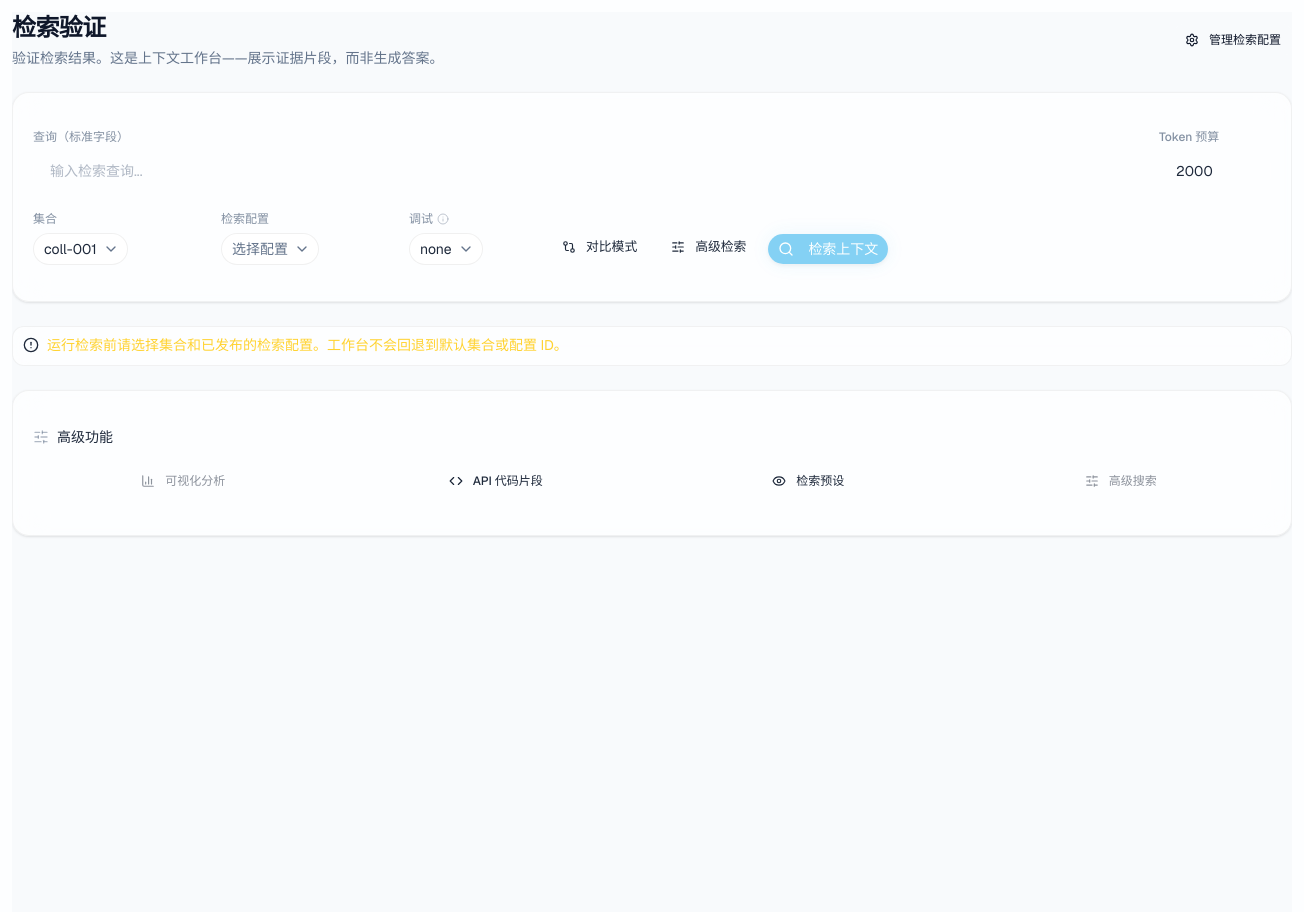
Scenario: RetrievalPage › Results Header › renders results count and expand/collapse buttons
Expected: the button "检索上下文" is shown, [767,233,889,265]
Click the dropdown labelled "选择配置 ▼".
click(270, 249)  # box [221,233,319,265]
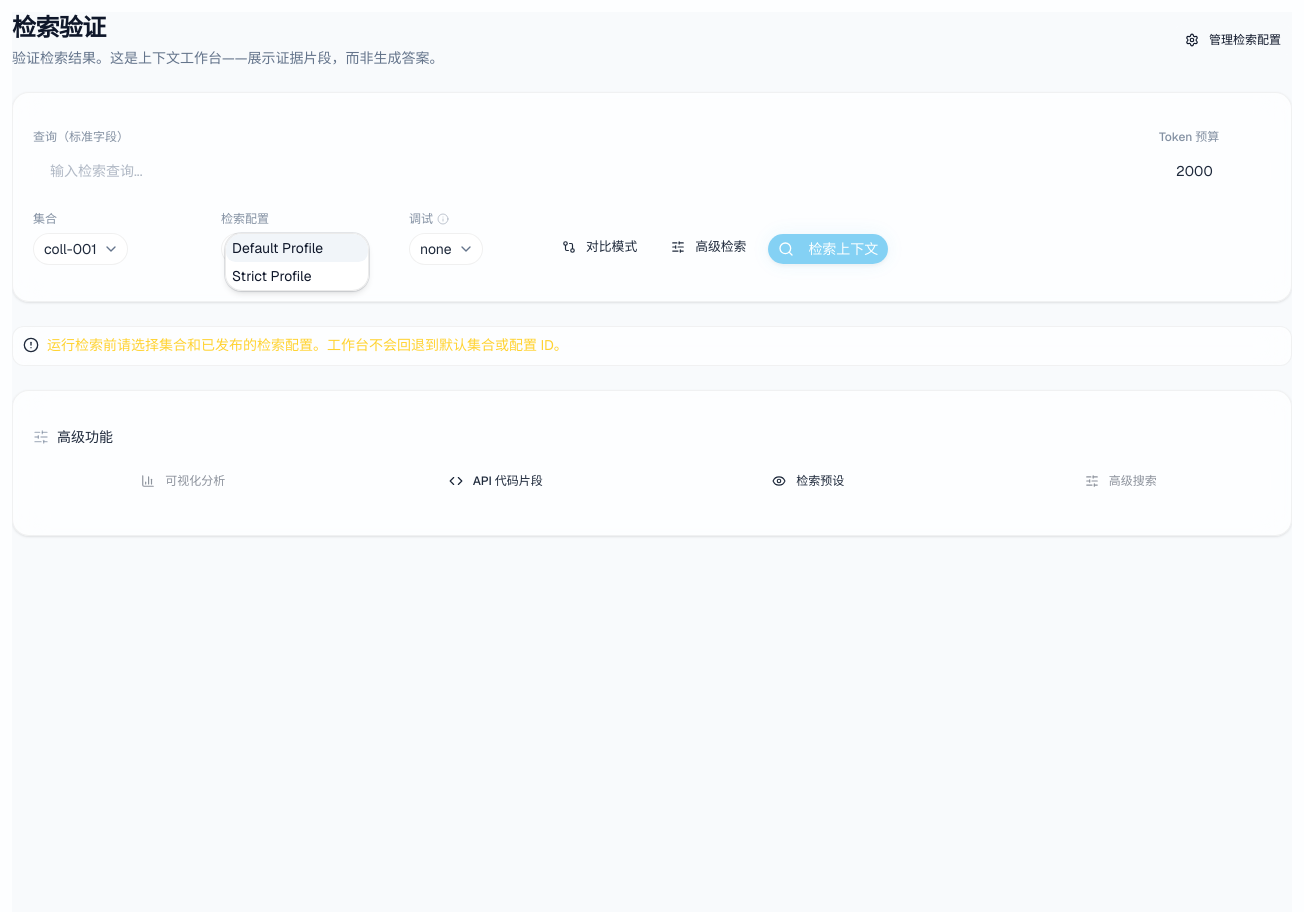
Now the option "Default Profile" is shown
Click the option "Default Profile".
click(297, 248)  # box [226,234,368,262]
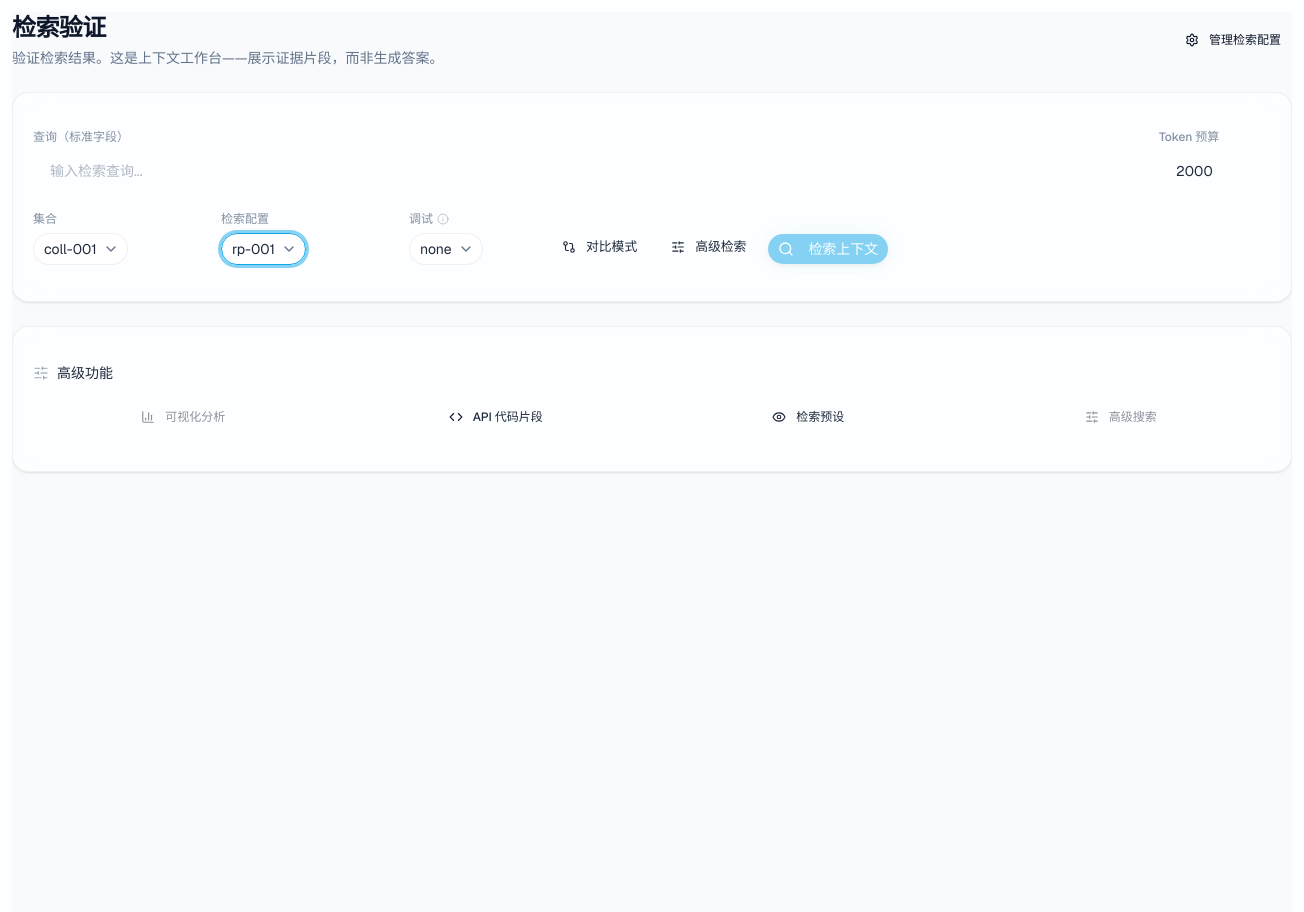
Type "test query" into the field with placeholder "输入检索查询...".
click(590, 171); type("test query")  # box [33,151,1147,191]
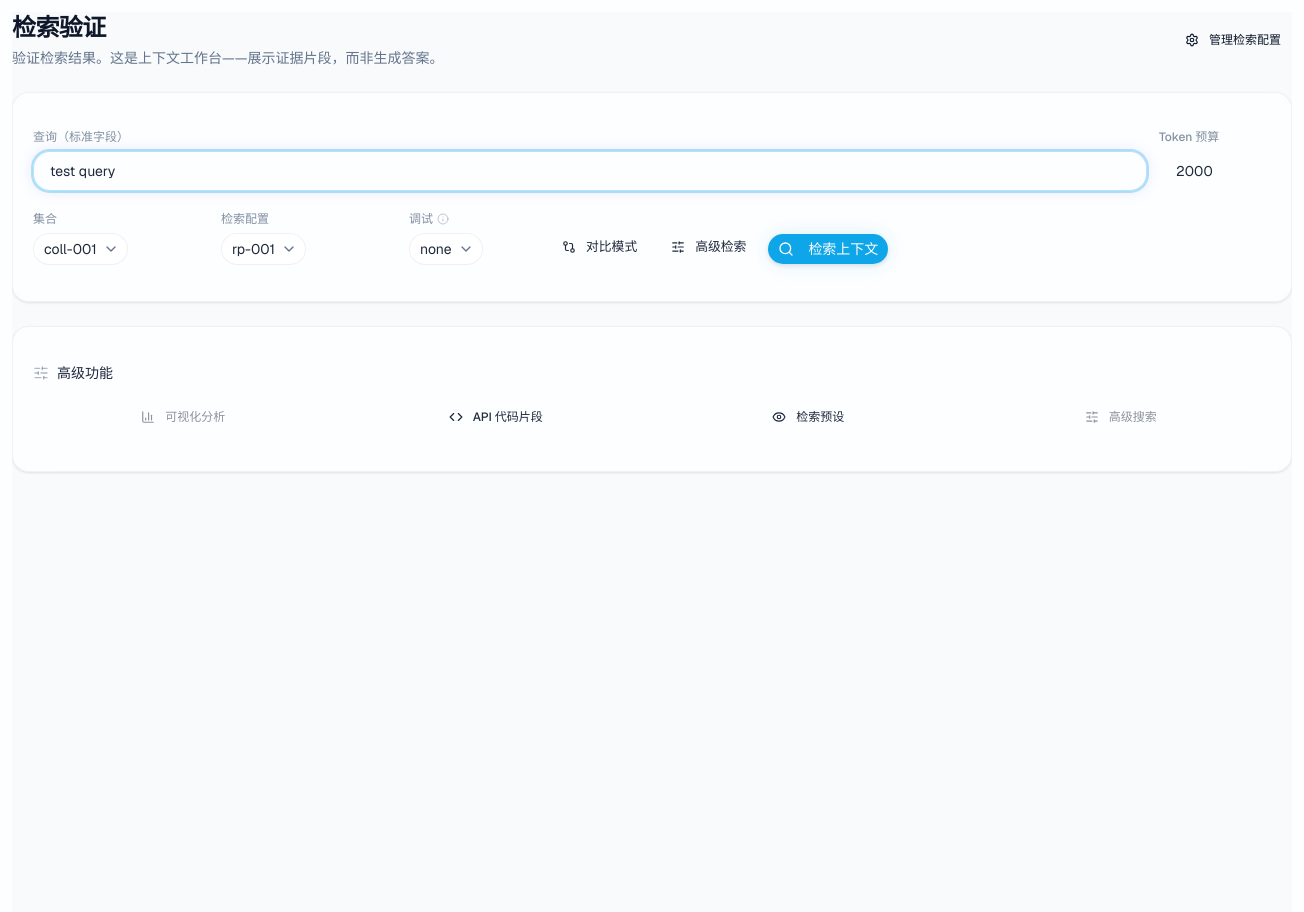
Click the button "检索上下文".
click(828, 249)  # box [767,233,889,265]
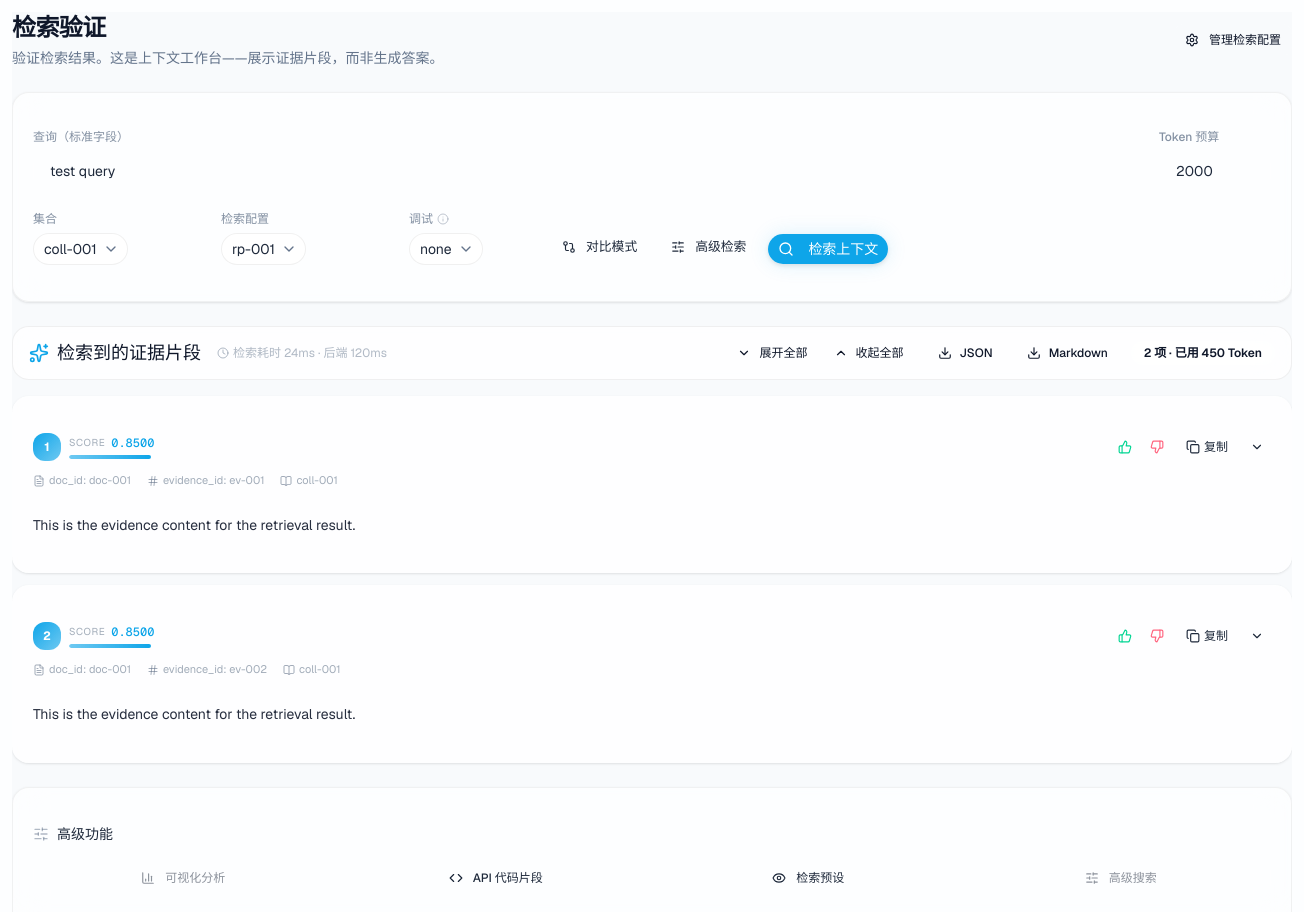
Now the heading "检索到的证据片段 检索耗时 24ms · 后端 120ms" is shown, box [29,339,387,367]
Now the text "2 项 · 已用 450 Token" is shown, box [1131,341,1275,365]
Now the button "展开全部" is shown, box [726,339,818,367]
